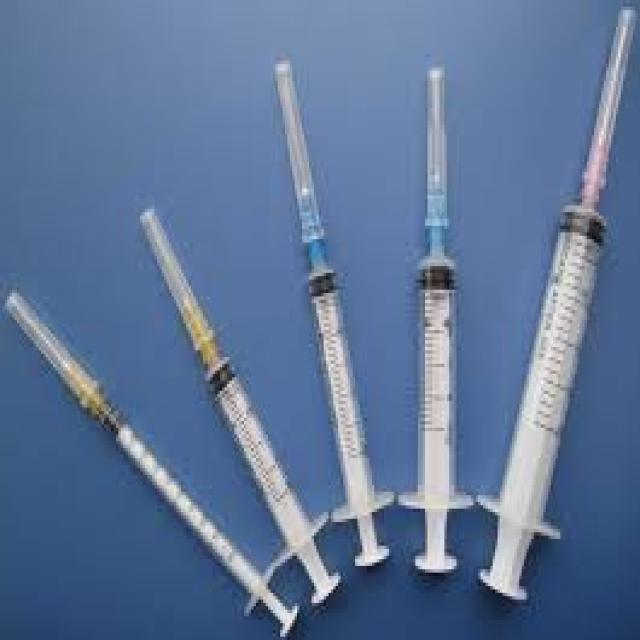syringe: (0, 279, 299, 636), (473, 3, 638, 600), (135, 202, 341, 610), (271, 54, 394, 566), (396, 57, 473, 573)
